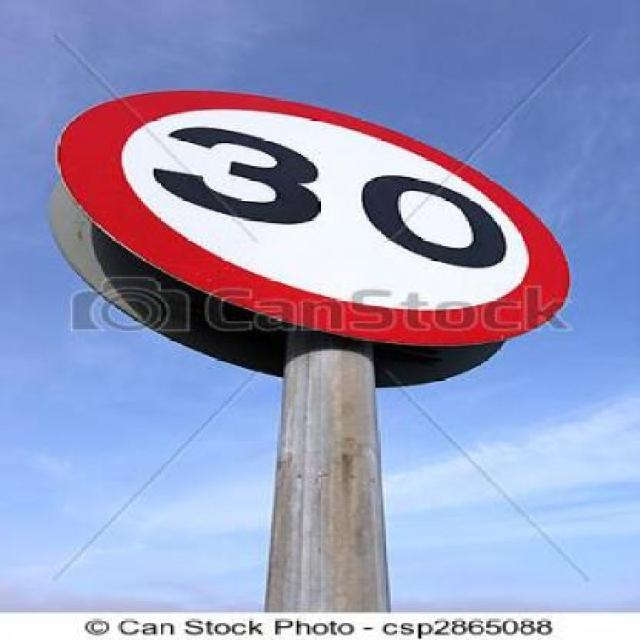forb_speed_over_30: (58, 84, 582, 342)
